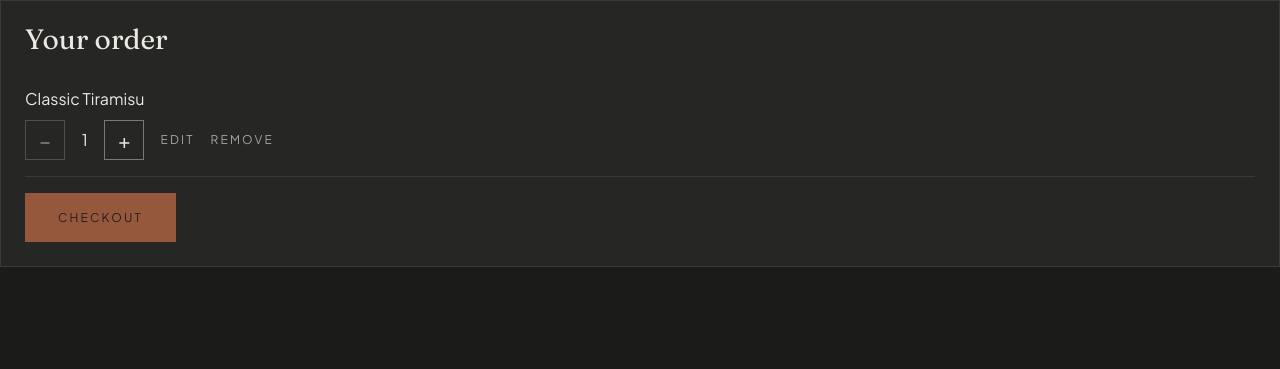
Test: CartPanel › changes quantities and removes lines
Step 1. Click the button named "Increase Classic Tiramisu quantity" → click(124, 140), box [104,120,144,160]
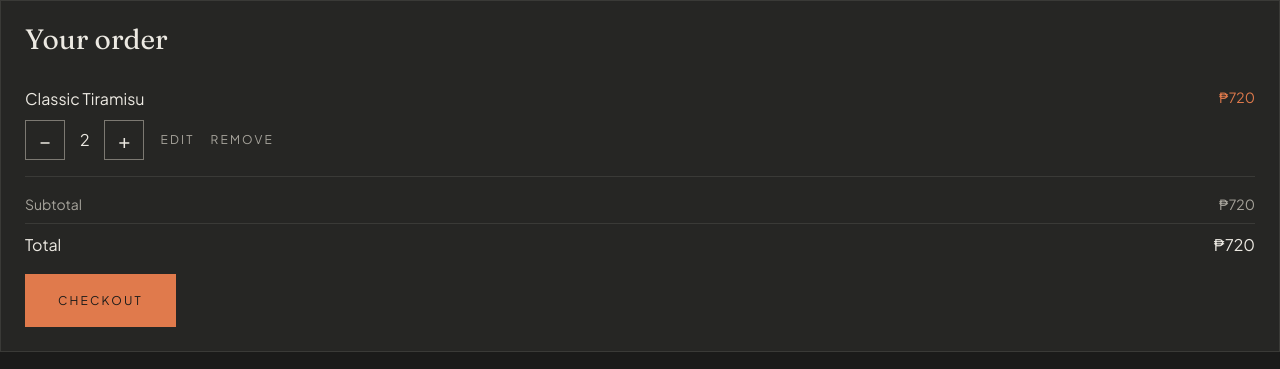
Step 2. Click the button with aria-label "Remove Classic Tiramisu" → click(242, 140), box [210,124,274,156]
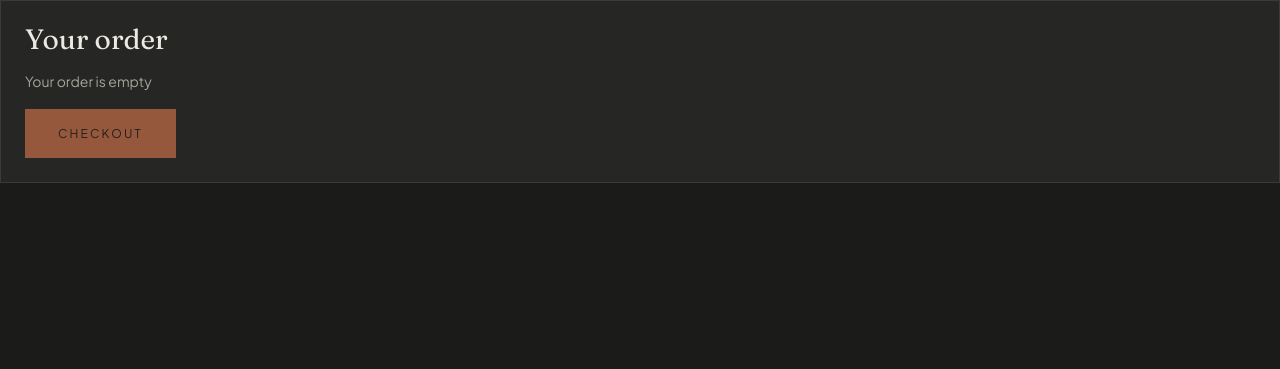
Expected: the button "Checkout" is disabled, [25,109,176,158]
Expected: the text "Your order is empty" is shown, [25,72,152,90]
